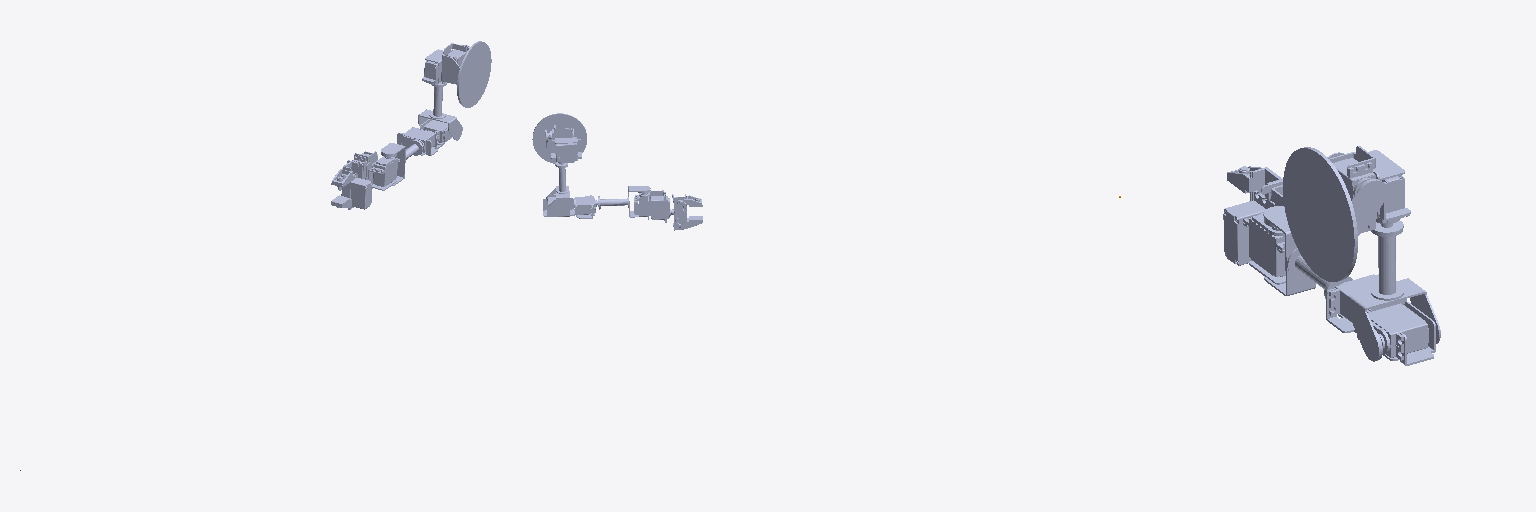
URDF robot description (boomerang):
<?xml version="1.0" ?>
<robot name="boomerang">
  <!-- base_footprint is a fictitious link(frame) that is on the ground right below base_link origin, navigation stack depends on this frame -->

  <link name="base_footprint">
    <visual>
      <origin xyz="0 0 0.017" rpy="0 0 0" />
      <geometry>
        <box size="0.001 0.001 0.001" />
      </geometry>
    </visual>

    <collision>
      <origin xyz="0 0 0.017" rpy="0 0 0" />
      <geometry>
       <box size="0.001 0.001 0.001" />
      </geometry>
    </collision>
  </link>

	<link name="mainbody-21">
		<visual>
			<geometry>
				<mesh filename="package://boomerang/urdf/mainbody.dae"/>
			</geometry>
			<origin rpy="0 0 0" xyz="0.894449 -0.00816 -0.052198"/>
			<material name="mainbody-21_color">
				<color rgba="0.792157 0.819608 0.933333 1"/>
			</material>
		</visual>
		<collision>
			<geometry>
				<mesh filename="package://boomerang/urdf/mainbody.dae"/>
			</geometry>
			<origin rpy="0 0 0" xyz="0.894449 -0.00816 -0.052198"/>
		</collision>
		<inertial>
			<mass value="19.9939"/>
			<inertia ixx="0" ixy="0" ixz="0" iyy="0" iyz="0" izz="0"/>
			<origin rpy="0 0 0" xyz="0.893976 -0.000239 0.221142"/>
		</inertial>
	</link>

  <joint name="base_footprint_joint" type="fixed">
    <origin xyz="0 0 0.017" rpy="0 0 0" />        
    <parent link="base_footprint"/>
    <child link="mainbody-21" />
  </joint>

	<link name="shoulderblade-11">
		<visual>
			<geometry>
				<mesh filename="package://boomerang/urdf/shoulderblade.dae"/>
			</geometry>
			<origin rpy="0 0 0" xyz="0.001728 -0.000067 -0.000827"/>
			<material name="shoulderblade-11_color">
				<color rgba="0.792157 0.819608 0.933333 1"/>
			</material>
		</visual>
		<collision>
			<geometry>
				<mesh filename="package://boomerang/urdf/shoulderblade.dae"/>
			</geometry>
			<origin rpy="0 0 0" xyz="0.001728 -0.000067 -0.000827"/>
		</collision>
		<inertial>
			<mass value="0.176614"/>
			<inertia ixx="0" ixy="0" ixz="0" iyy="0" iyz="0" izz="0"/>
			<origin rpy="0 0 0" xyz="0.000347 -0.000728 0.000418"/>
		</inertial>
	</link>
	<joint name="mainbody-2--shoulderblade-11" type="revolute">
		<parent link="mainbody-21"/>
		<child link="shoulderblade-11"/>
		<origin rpy="0.020254 0.008678 0.54438" xyz="0.849713 0.146171 0.382741"/>
		<axis xyz="0 1 0"/>
 		<limit effort="10" lower="-1.5" upper="1.5" velocity="3"/>
	</joint>
	<link name="shoulderjoint-11">
		<visual>
			<geometry>
				<mesh filename="package://boomerang/urdf/shoulderjoint.dae"/>
			</geometry>
			<origin rpy="0 0 0" xyz="-0.032502 0.014752 -0.014338"/>
			<material name="shoulderjoint-11_color">
				<color rgba="0.792157 0.819608 0.933333 1"/>
			</material>
		</visual>
		<collision>
			<geometry>
				<mesh filename="package://boomerang/urdf/shoulderjoint.dae"/>
			</geometry>
			<origin rpy="0 0 0" xyz="-0.032502 0.014752 -0.014338"/>
		</collision>
		<inertial>
			<mass value="0.046137"/>
			<inertia ixx="0" ixy="0" ixz="0" iyy="0" iyz="0" izz="0"/>
			<origin rpy="0 0 0" xyz="-0.024929 0.014401 -0.01623"/>
		</inertial>
	</link>
	<joint name="shoulderblade-1--shoulderjoint-11" type="revolute">
		<parent link="shoulderblade-11"/>
		<child link="shoulderjoint-11"/>
		<origin rpy="0.026762 0.022468 0.020203" xyz="0.024952 0.026928 0.018273"/>
		<axis xyz="1 0 0"/>
 		<limit effort="10" lower="-1.5" upper="1.5" velocity="3"/>
	</joint>
	<link name="upperarm-11">
		<visual>
			<geometry>
				<mesh filename="package://boomerang/urdf/upperarm.dae"/>
			</geometry>
			<origin rpy="0 0 0" xyz="-0.013188 0.006507 -0.050394"/>
			<material name="upperarm-11_color">
				<color rgba="0.792157 0.819608 0.933333 1"/>
			</material>
		</visual>
		<collision>
			<geometry>
				<mesh filename="package://boomerang/urdf/upperarm.dae"/>
			</geometry>
			<origin rpy="0 0 0" xyz="-0.013188 0.006507 -0.050394"/>
		</collision>
		<inertial>
			<mass value="0.014856"/>
			<inertia ixx="0" ixy="0" ixz="0" iyy="0" iyz="0" izz="0"/>
			<origin rpy="0 0 0" xyz="0.004072 0.005053 -0.043501"/>
		</inertial>
	</link>
	<joint name="shoulderjoint-1--upperarm-11" type="revolute">
		<parent link="shoulderjoint-11"/>
		<child link="upperarm-11"/>
		<origin rpy="0.002846 -0.020393 -1.591038" xyz="-0.025616 0.028053 -0.04603"/>
		<axis xyz="0 0 1"/>
 		<limit effort="10" lower="-1.5" upper="1.5" velocity="3"/>
	</joint>
	<link name="elbow-11">
		<visual>
			<geometry>
				<mesh filename="package://boomerang/urdf/elbow.dae"/>
			</geometry>
			<origin rpy="0 0 0" xyz="-0.006286 0.02685 -0.0363"/>
			<material name="elbow-11_color">
				<color rgba="0.792157 0.819608 0.933333 1"/>
			</material>
		</visual>
		<collision>
			<geometry>
				<mesh filename="package://boomerang/urdf/elbow.dae"/>
			</geometry>
			<origin rpy="0 0 0" xyz="-0.006286 0.02685 -0.0363"/>
		</collision>
		<inertial>
			<mass value="0.048882"/>
			<inertia ixx="0" ixy="0" ixz="0" iyy="0" iyz="0" izz="0"/>
			<origin rpy="0 0 0" xyz="0.00157 0.023876 -0.035902"/>
		</inertial>
	</link>
	<joint name="upperarm-1--elbow-11" type="revolute">
		<parent link="upperarm-11"/>
		<child link="elbow-11"/>
		<origin rpy="-2.665825 1.565338 -1.101191" xyz="0.02467 0.018579 -0.080261"/>
		<axis xyz="0 1 0"/>
 		<limit effort="10" lower="-1.5" upper="1.5" velocity="3"/>
	</joint>
	<link name="forearm-11">
		<visual>
			<geometry>
				<mesh filename="package://boomerang/urdf/forearm.dae"/>
			</geometry>
			<origin rpy="0 0 0" xyz="0.009782 -0.00247 -0.049233"/>
			<material name="forearm-11_color">
				<color rgba="0.792157 0.819608 0.933333 1"/>
			</material>
		</visual>
		<collision>
			<geometry>
				<mesh filename="package://boomerang/urdf/forearm.dae"/>
			</geometry>
			<origin rpy="0 0 0" xyz="0.009782 -0.00247 -0.049233"/>
		</collision>
		<inertial>
			<mass value="0.014412"/>
			<inertia ixx="0" ixy="0" ixz="0" iyy="0" iyz="0" izz="0"/>
			<origin rpy="0 0 0" xyz="0.000455 -0.004207 -0.043057"/>
		</inertial>
	</link>
	<joint name="elbow-1--forearm-11" type="revolute">
		<parent link="elbow-11"/>
		<child link="forearm-11"/>
		<origin rpy="0.004999 0.003767 -1.568983" xyz="-0.000748 0.023368 -0.085032"/>
		<axis xyz="0 0 1"/>
 		<limit effort="10" lower="-1.5" upper="1.5" velocity="3"/>
	</joint>
	<link name="wrist-11">
		<visual>
			<geometry>
				<mesh filename="package://boomerang/urdf/wrist.dae"/>
			</geometry>
			<origin rpy="0 0 0" xyz="0.036091 0.01389 -0.016099"/>
			<material name="wrist-11_color">
				<color rgba="0.792157 0.819608 0.933333 1"/>
			</material>
		</visual>
		<collision>
			<geometry>
				<mesh filename="package://boomerang/urdf/wrist.dae"/>
			</geometry>
			<origin rpy="0 0 0" xyz="0.036091 0.01389 -0.016099"/>
		</collision>
		<inertial>
			<mass value="0.043581"/>
			<inertia ixx="0" ixy="0" ixz="0" iyy="0" iyz="0" izz="0"/>
			<origin rpy="0 0 0" xyz="0.025362 0.013199 -0.018104"/>
		</inertial>
	</link>
	<joint name="forearm-1--wrist-11" type="revolute">
		<parent link="forearm-11"/>
		<child link="wrist-11"/>
		<origin rpy="-0.005647 0.005634 1.57425" xyz="0.000857 -0.024708 -0.081813"/>
		<axis xyz="1 0 0"/>
 		<limit effort="10" lower="-1.5" upper="1.5" velocity="3"/>
	</joint>
	<link name="grasp-11">
		<visual>
			<geometry>
				<mesh filename="package://boomerang/urdf/grasp.dae"/>
			</geometry>
			<origin rpy="0 0 0" xyz="0.005019 0.016043 0.002636"/>
			<material name="grasp-11_color">
				<color rgba="0.792157 0.819608 0.933333 1"/>
			</material>
		</visual>
		<collision>
			<geometry>
				<mesh filename="package://boomerang/urdf/grasp.dae"/>
			</geometry>
			<origin rpy="0 0 0" xyz="0.005019 0.016043 0.002636"/>
		</collision>
		<inertial>
			<mass value="0.03571"/>
			<inertia ixx="0" ixy="0" ixz="0" iyy="0" iyz="0" izz="0"/>
			<origin rpy="0 0 0" xyz="0.001644 0.022843 0.002207"/>
		</inertial>
	</link>
	<joint name="wrist-1--grasp-11" type="revolute">
		<parent link="wrist-11"/>
		<child link="grasp-11"/>
		<origin rpy="-1.562208 -0.012195 -1.57479" xyz="0.036308 0.028066 -0.048196"/>
		<axis xyz="0 1 0"/>
 		<limit effort="10" lower="-1.5" upper="1.5" velocity="3"/>
	</joint>
</robot>

--- Render facts (derived) ---
Views: 3 orthographic renders of the robot side by side, from view 1: azimuth 30°, elevation 25°; view 2: azimuth 150°, elevation 25°; view 3: azimuth 270°, elevation 25°.
Model boomerang with 9 links and 8 joints (7 revolute, 1 fixed), rooted at base_footprint, posed all joints at 0.
Links seen in each view (by area): view 1: shoulderblade-11, grasp-11, wrist-11, elbow-11, shoulderjoint-11, upperarm-11, forearm-11; view 2: shoulderblade-11, shoulderjoint-11, wrist-11, elbow-11, grasp-11, upperarm-11; view 3: shoulderblade-11, elbow-11, upperarm-11, shoulderjoint-11, grasp-11, wrist-11, forearm-11.
Boxes of the visible links, bbox=[...] form: shoulderblade-11: bbox=[442, 41, 491, 107]; grasp-11: bbox=[331, 160, 371, 209]; wrist-11: bbox=[352, 151, 399, 190]; elbow-11: bbox=[397, 119, 453, 155]; shoulderjoint-11: bbox=[422, 43, 469, 85]; upperarm-11: bbox=[418, 84, 462, 140]; forearm-11: bbox=[381, 140, 422, 185]; shoulderblade-11: bbox=[532, 113, 586, 163]; shoulderjoint-11: bbox=[546, 125, 581, 166]; wrist-11: bbox=[634, 190, 671, 222]; elbow-11: bbox=[543, 194, 599, 218]; grasp-11: bbox=[671, 194, 702, 230]; upperarm-11: bbox=[546, 163, 569, 216]; shoulderblade-11: bbox=[1283, 147, 1386, 281]; elbow-11: bbox=[1325, 274, 1435, 365]; upperarm-11: bbox=[1348, 224, 1440, 361]; shoulderjoint-11: bbox=[1329, 146, 1410, 234]; grasp-11: bbox=[1223, 166, 1282, 265]; wrist-11: bbox=[1243, 185, 1285, 284]; forearm-11: bbox=[1263, 206, 1328, 298].
Size in the robot's own frame: 0.8945 by 0.2323 by 0.4332 metres.
Meshes: 8 distinct files referenced, 7 mesh visuals loaded (7 Collada DAE); not drawn: 1 (reference not matched to a file when rendering).